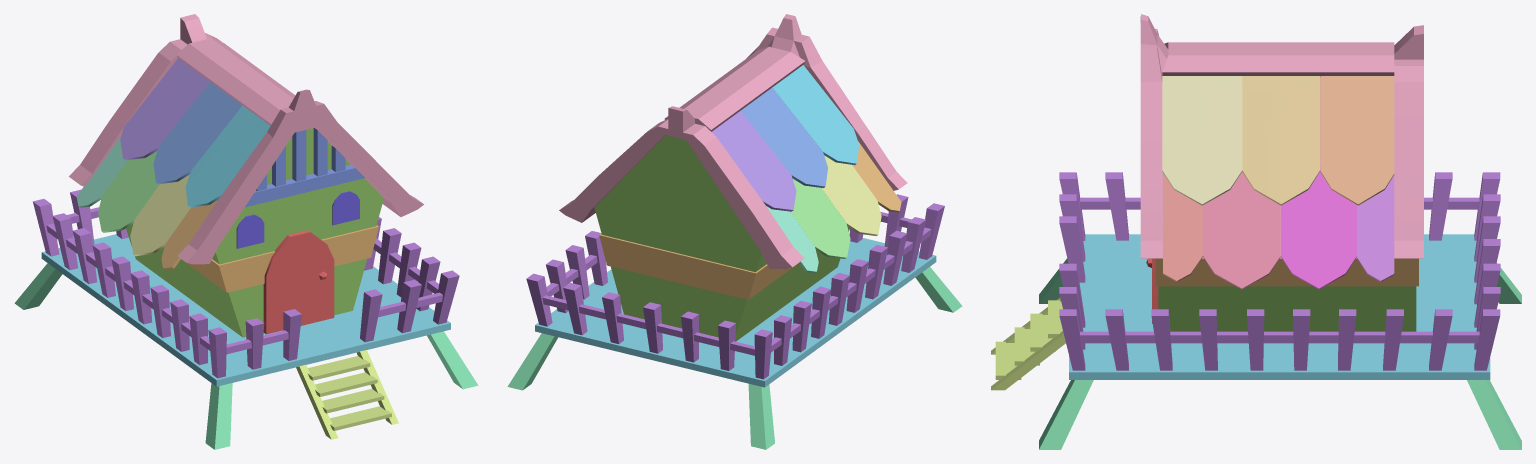
Rendered from MOD_JungleHouse_low.fbx.
The picture shows the model from 3 angles, left to right: view 1: azimuth 30°, elevation 25°; view 2: azimuth 150°, elevation 25°; view 3: azimuth 270°, elevation 25°; orthographic projection. The views are drawn at different scales.
Parts seen in each view (by area): view 1: Rand_low, Roof_low, Housebase_low, Terras_low, Door_low, Stairs_low, BladH_low, BladL_low, BladM_low, Balken_low, Poten_low, Patternborder_low (+5 smaller); view 2: Housebase_low, Rand_low, Roof_low, Terras_low, Patternborder_low, BladL_low, BladM_low, BladH_low, Poten_low, BladO_low, BladP_low, BladQ_low (+1 smaller); view 3: Rand_low, Terras_low, Roof_low, Housebase_low, BladA_low, BladB_low, BladC_low, BladE_low, BladF_low, Poten_low, Stairs_low, Patternborder_low (+2 smaller).
Boxes of the visible parts, x1,y1,x2,y2 form: Rand_low: (32, 189, 459, 378); Roof_low: (69, 14, 423, 264); Housebase_low: (126, 128, 383, 337); Terras_low: (41, 234, 450, 386); Door_low: (263, 230, 334, 334); Stairs_low: (296, 350, 398, 439); BladH_low: (120, 58, 209, 160); BladL_low: (153, 82, 242, 184); BladM_low: (185, 105, 270, 207); Balken_low: (245, 128, 364, 207); Poten_low: (14, 263, 478, 449); Patternborder_low: (181, 225, 378, 292); Housebase_low: (594, 135, 849, 341); Rand_low: (526, 194, 944, 379); Roof_low: (559, 14, 907, 269); Terras_low: (535, 238, 936, 387); Patternborder_low: (599, 233, 816, 299); BladL_low: (741, 87, 827, 187); BladM_low: (772, 65, 859, 165); BladH_low: (712, 110, 796, 211); Poten_low: (507, 267, 962, 449); BladO_low: (790, 179, 850, 258); BladP_low: (821, 155, 881, 235); BladQ_low: (852, 141, 901, 212); Rand_low: (1059, 172, 1500, 370); Terras_low: (1069, 234, 1490, 379); Roof_low: (1140, 14, 1423, 258); Housebase_low: (1158, 286, 1416, 331); BladA_low: (1162, 76, 1242, 205); BladB_low: (1242, 76, 1319, 205); BladC_low: (1320, 76, 1394, 205); BladE_low: (1203, 172, 1280, 289); BladF_low: (1281, 167, 1356, 289); Poten_low: (1039, 258, 1521, 449); Stairs_low: (991, 297, 1065, 390); Patternborder_low: (1155, 258, 1418, 286).
Bounding box in the file's own units: 4.96 × 5.31 × 7.17.
